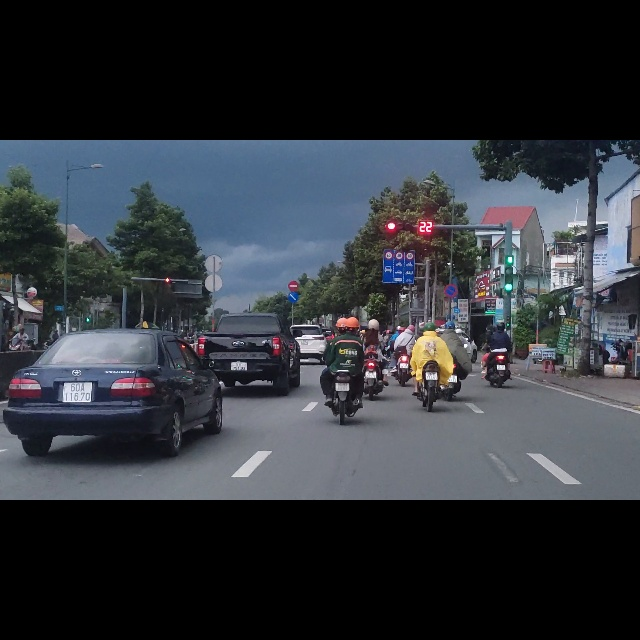bien_cam: (383, 214, 414, 256), (444, 256, 458, 280), (288, 250, 299, 268), (288, 270, 298, 289), (384, 197, 393, 212), (395, 198, 404, 213), (405, 198, 414, 213)
